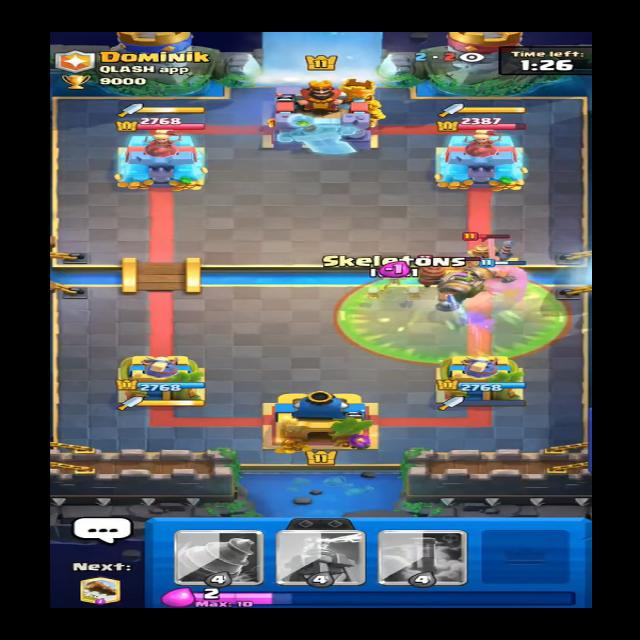goblin-curse: (332, 273, 568, 363)
goblin-machine: (406, 258, 493, 306)
prince: (456, 233, 523, 281)
